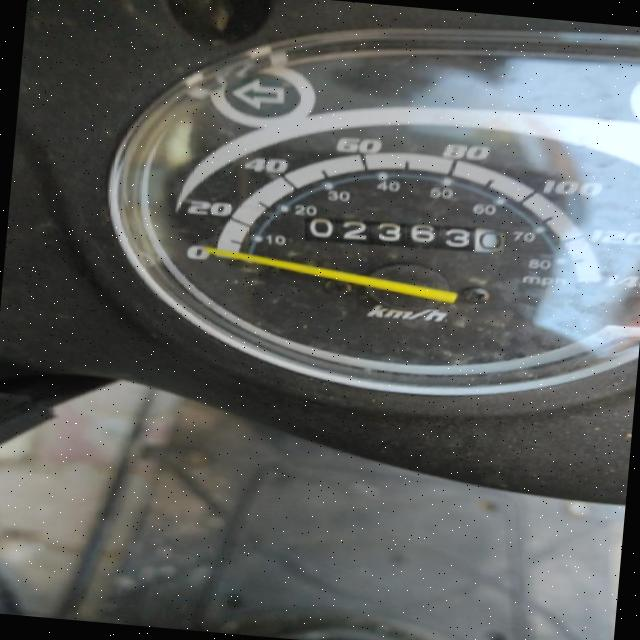odometer: (302, 212, 513, 262)
